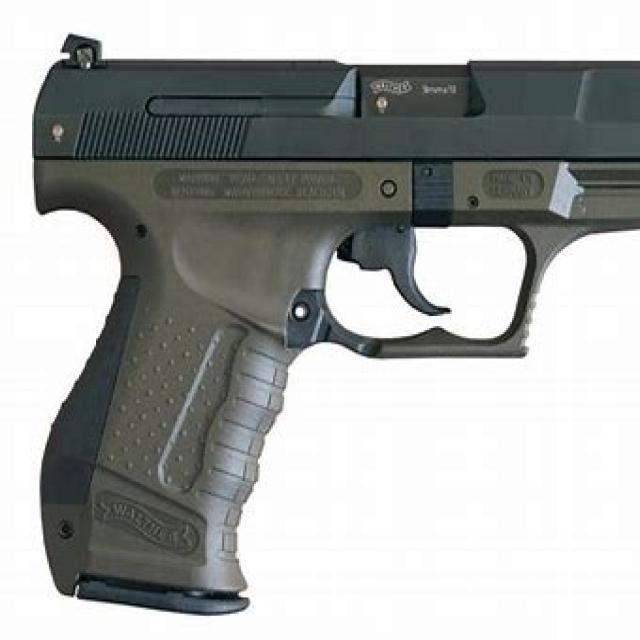Pistol: (22, 20, 640, 639)
